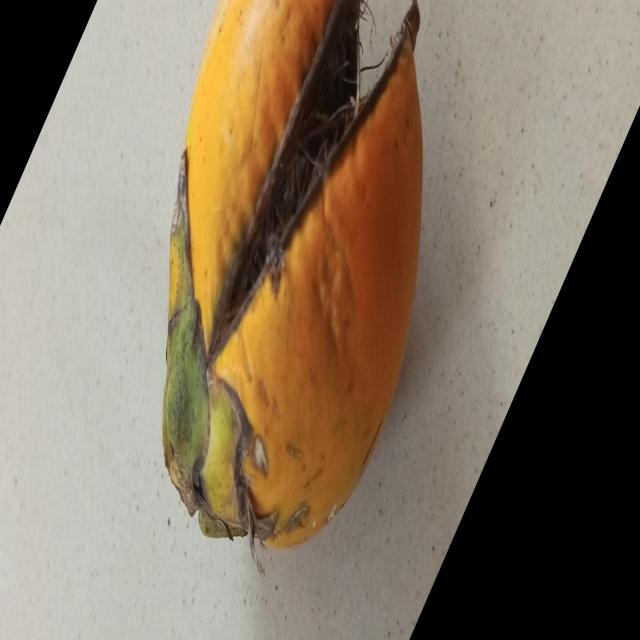damaged: (162, 0, 423, 552)
